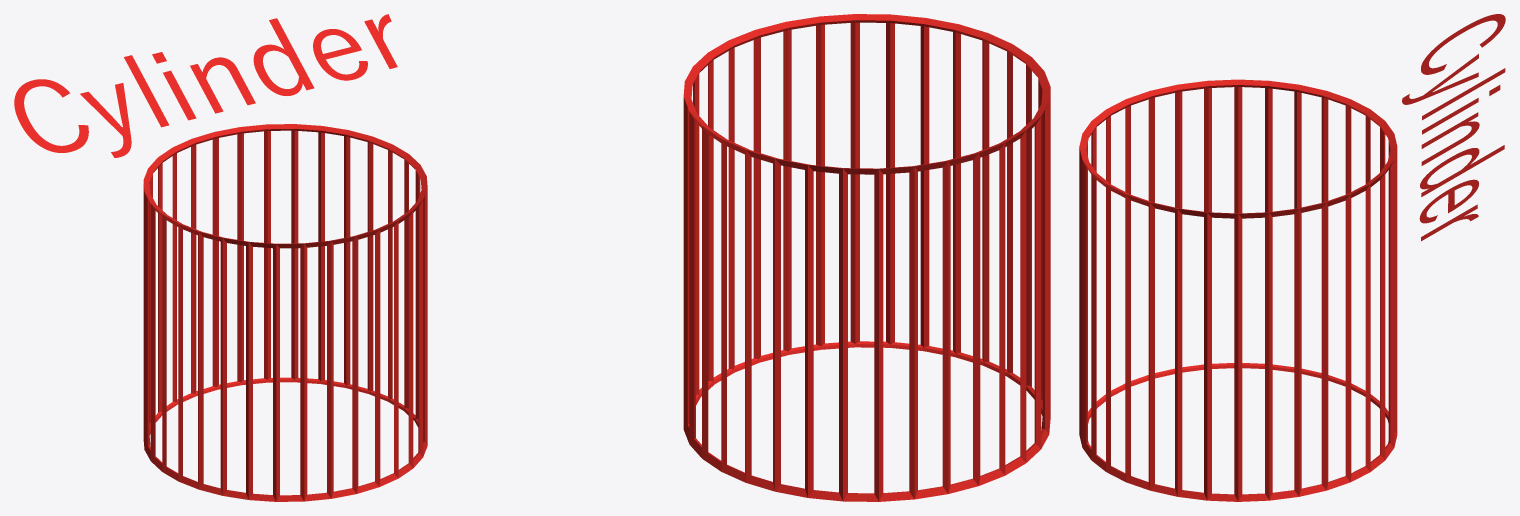
The model's file is cylinderflatext.gltf.
3 views of the same model, side by side, from view 1: azimuth 30°, elevation 25°; view 2: azimuth 150°, elevation 25°; view 3: azimuth 270°, elevation 25° (orthographic). The views are drawn at different scales.
Visible parts, largest first — view 1: Cylinder, Text; view 2: Cylinder; view 3: Cylinder, Text.
Part boxes in pixels (<box>): Cylinder: <box>143,124,427,501</box>; Text: <box>14,14,397,157</box>; Cylinder: <box>683,14,1050,501</box>; Cylinder: <box>1079,79,1397,501</box>; Text: <box>1402,14,1505,241</box>.
Size of the model in its own units: 232 by 183 by 205.
